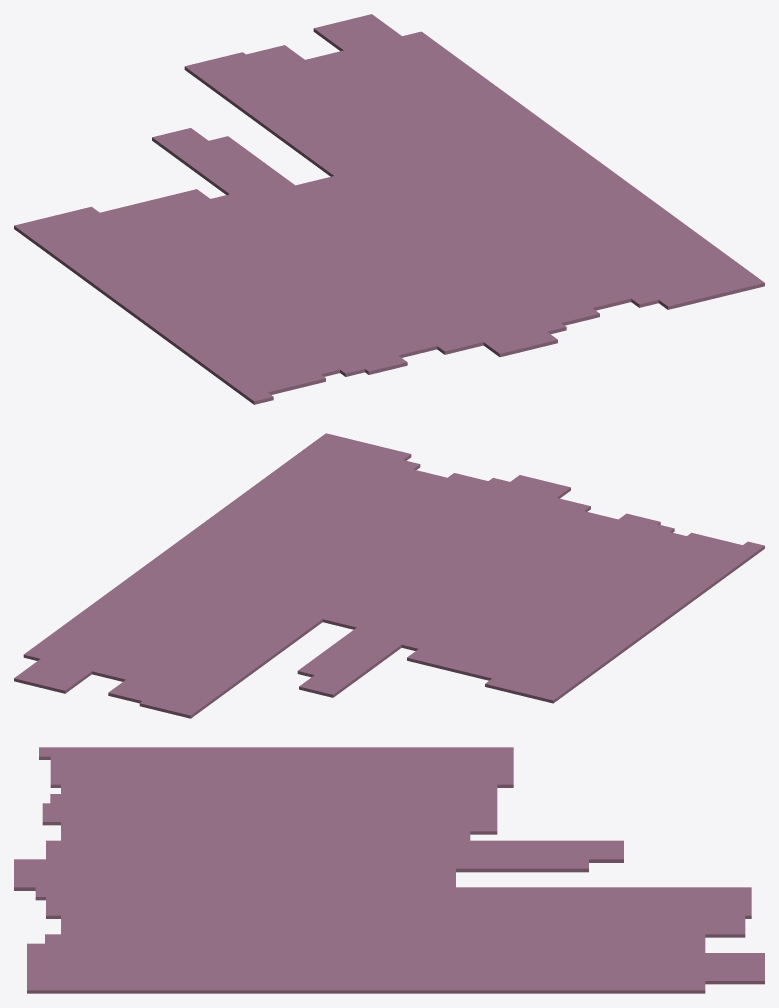
File: woodenfloor5_lp.fbx
The picture shows the model from 3 angles, top to bottom: view 1: azimuth 30°, elevation 25°; view 2: azimuth 150°, elevation 25°; view 3: azimuth 270°, elevation 25°; orthographic projection. The views are drawn at different scales.
Visible parts, largest first — view 1: woodenfloor5_LP; view 2: woodenfloor5_LP; view 3: woodenfloor5_LP.
Part boxes in pixels (x1,y1,x2,y2): woodenfloor5_LP: (14, 14, 764, 404); woodenfloor5_LP: (14, 433, 764, 718); woodenfloor5_LP: (14, 747, 764, 993).
Size of the model in its own units: 839 by 5.5 by 1095.
